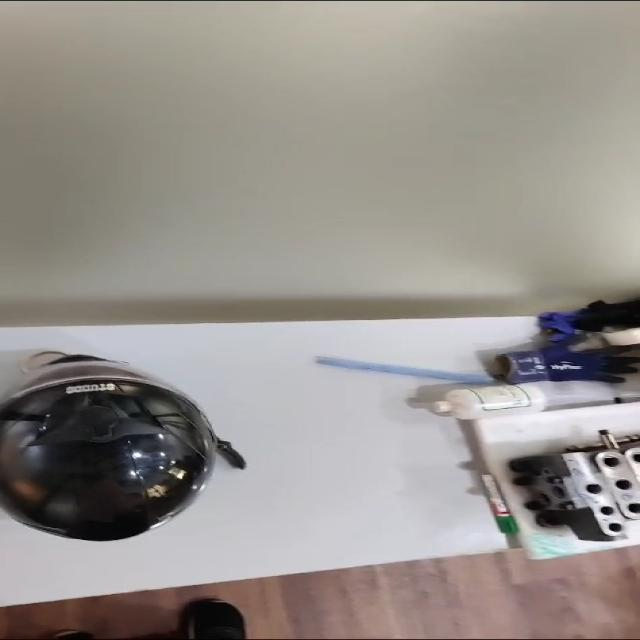helmet: (0, 351, 243, 541)
